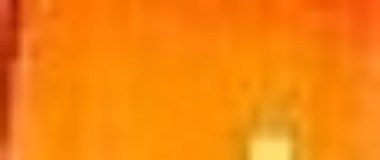Hotspot: (241, 130, 300, 160)
